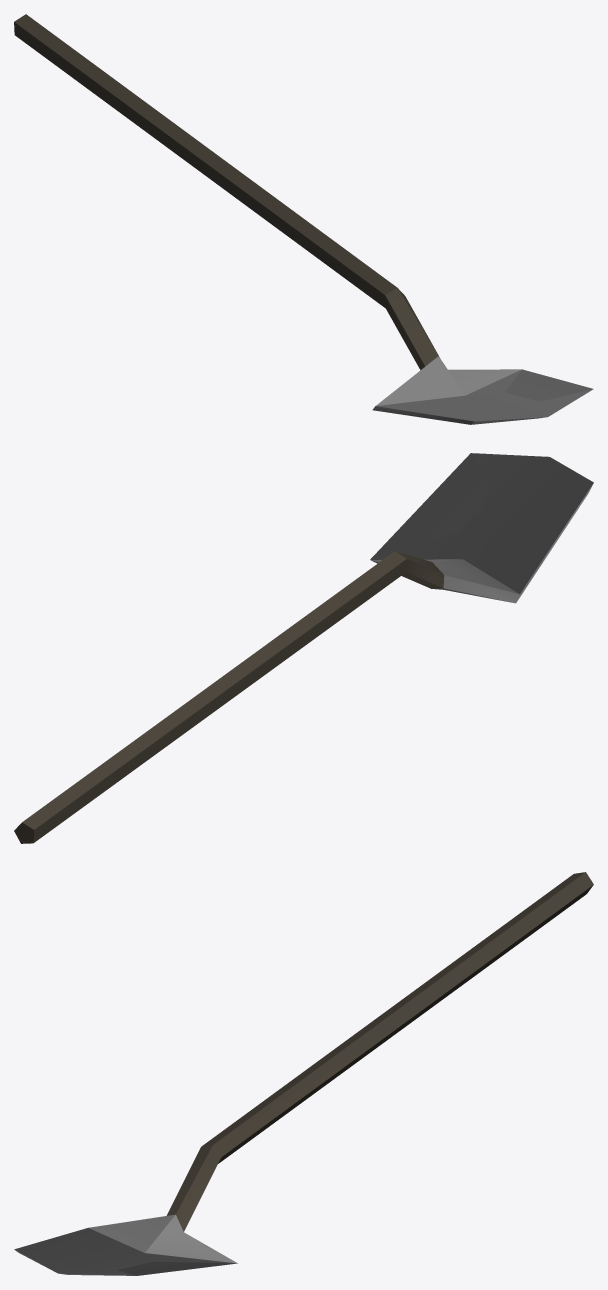
Rendered from shovel.fbx.
3 renders of one model, top to bottom at view 1: azimuth 30°, elevation 25°; view 2: azimuth 150°, elevation 25°; view 3: azimuth 330°, elevation 25°, orthographic.
Visible parts, largest first — view 1: shovel_mesh; view 2: shovel_mesh; view 3: shovel_mesh.
Boxes of the visible parts, x1=… form: shovel_mesh: x1=14, y1=14, x2=593, y2=424; shovel_mesh: x1=14, y1=453, x2=593, y2=843; shovel_mesh: x1=14, y1=872, x2=593, y2=1275.
Size of the model in its own units: 4.1 by 1.94 by 25.12.
Materials: 2 (2 with a texture image).
